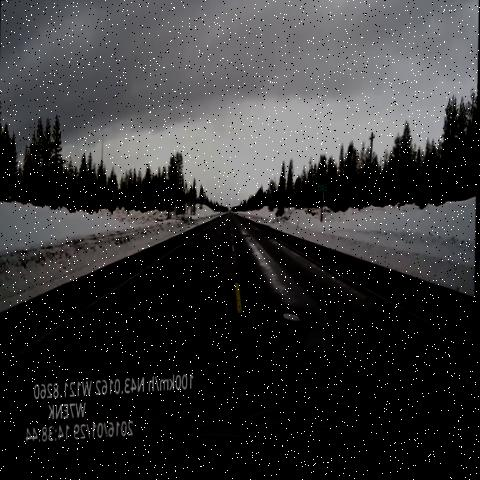pothole: (267, 297, 311, 345), (238, 227, 253, 248), (259, 233, 277, 250), (218, 216, 236, 231)
